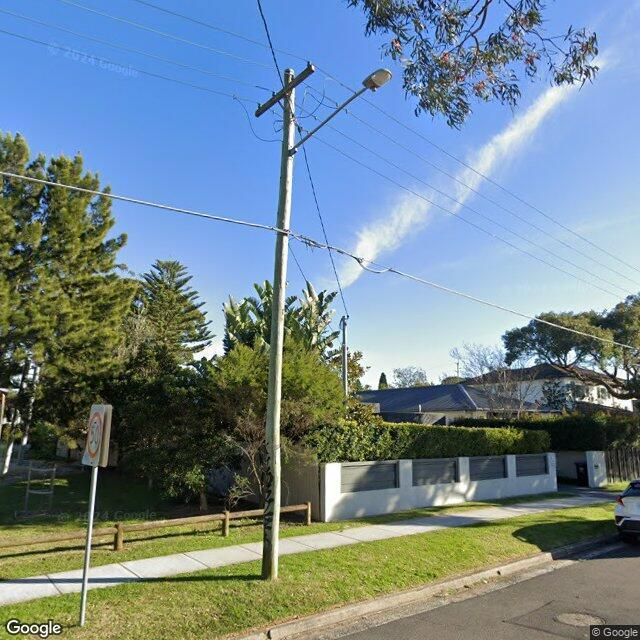crossarm: (254, 62, 316, 118)
steel-pole: (341, 315, 348, 398)
streetlight: (289, 68, 393, 156)
timber-pole: (261, 68, 295, 580)
